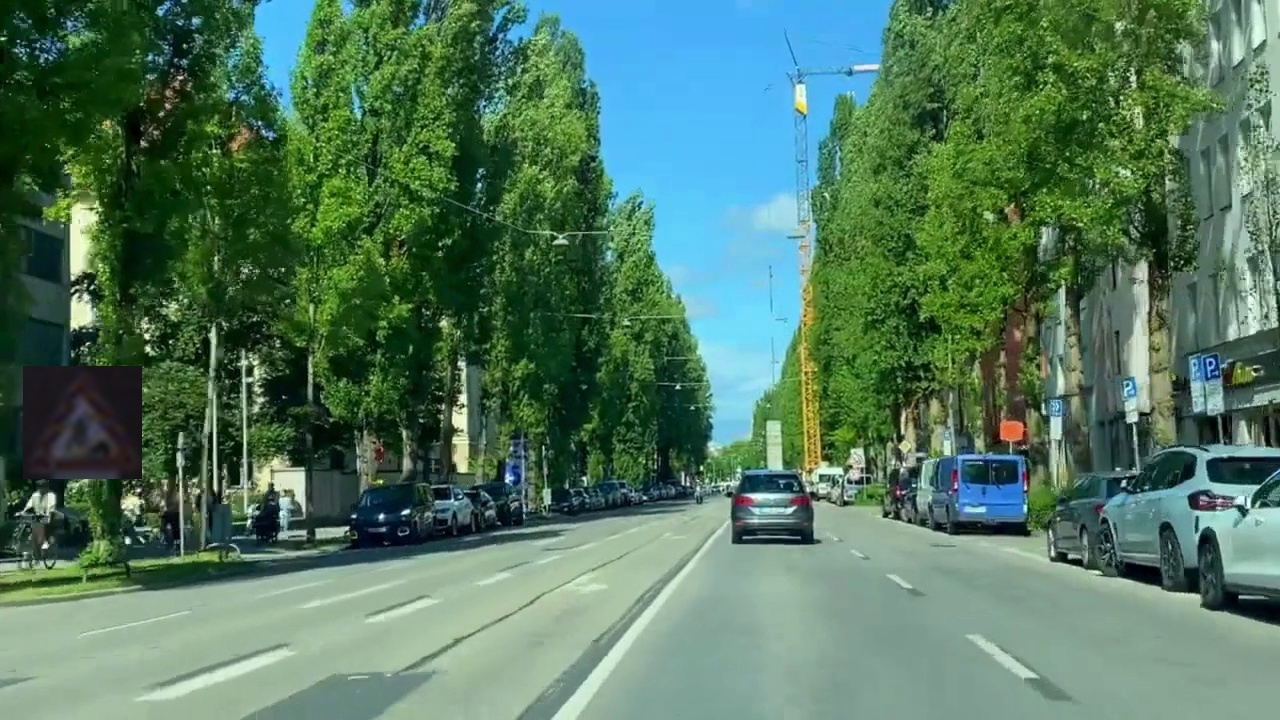Road work: (23, 366, 142, 479)
